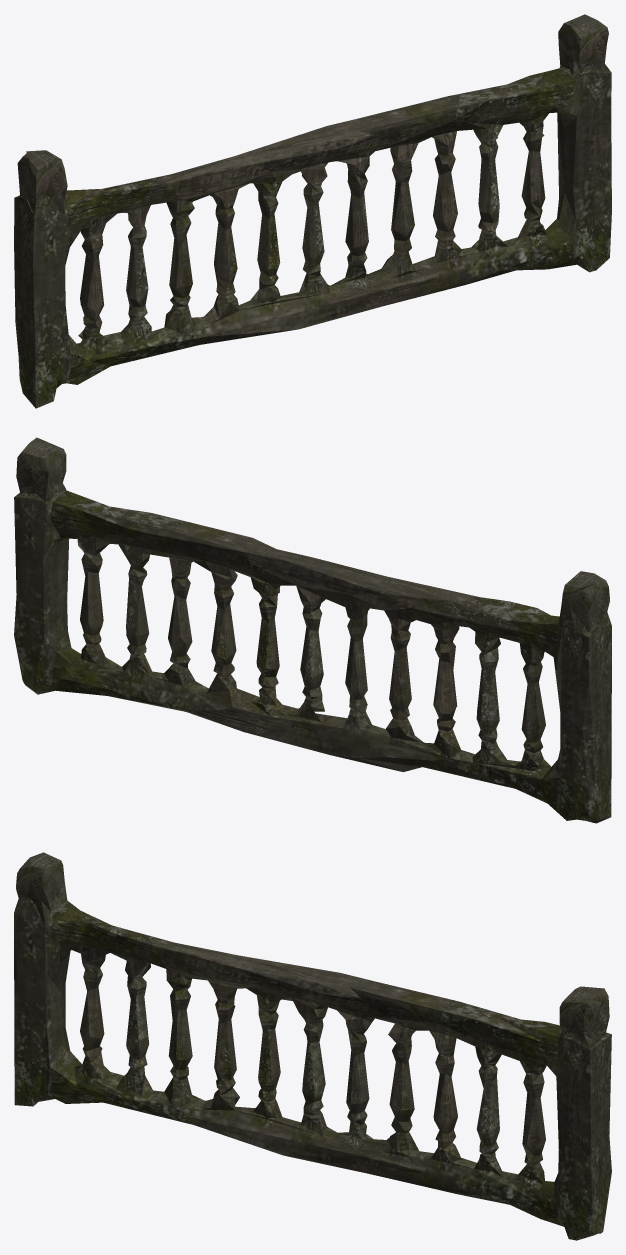
The model's file is sp_m_railing.glb.
3 renders of one model, top to bottom at view 1: azimuth 30°, elevation 25°; view 2: azimuth 150°, elevation 25°; view 3: azimuth 330°, elevation 25°, orthographic.
Parts seen in each view (by area): view 1: output_unwrapped; view 2: output_unwrapped; view 3: output_unwrapped.
Part boxes in pixels (x1=…): output_unwrapped: x1=14, y1=14, x2=611, y2=408; output_unwrapped: x1=14, y1=437, x2=611, y2=823; output_unwrapped: x1=14, y1=852, x2=611, y2=1240.
Bounding box in the file's own units: 1.9 × 0.76 × 0.1279.
Materials: 1 (1 with a texture image).
